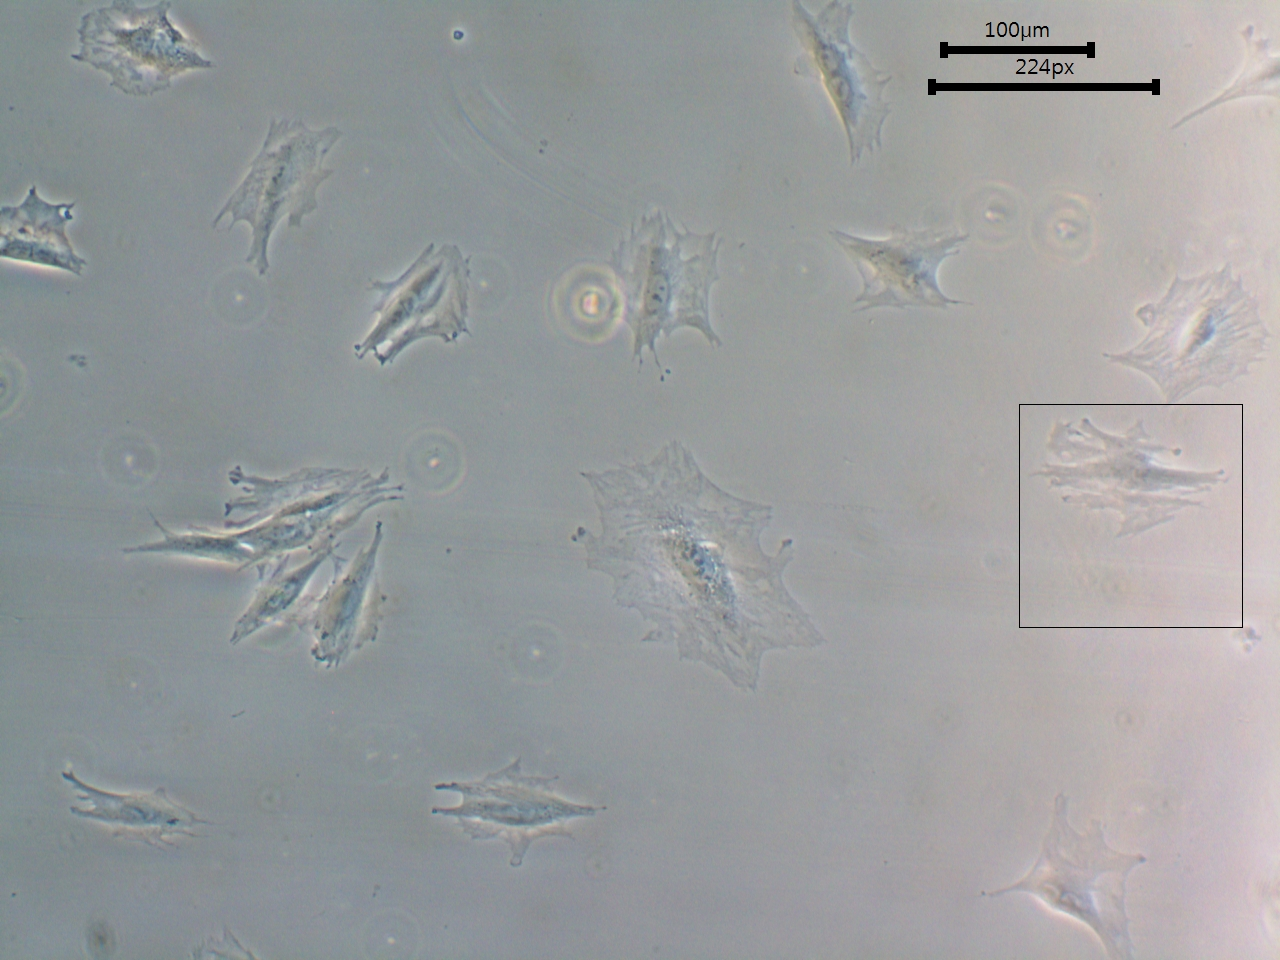dividing: (775, 1, 910, 171)
large-spread: (577, 430, 830, 700), (1097, 259, 1273, 395)
medium-polygonal: (429, 754, 614, 876), (352, 234, 488, 371), (54, 764, 222, 873), (306, 518, 392, 673), (225, 545, 329, 651), (118, 518, 254, 576)
medium-spread: (213, 107, 345, 279), (605, 201, 730, 364), (831, 211, 965, 336), (50, 1, 218, 90)
